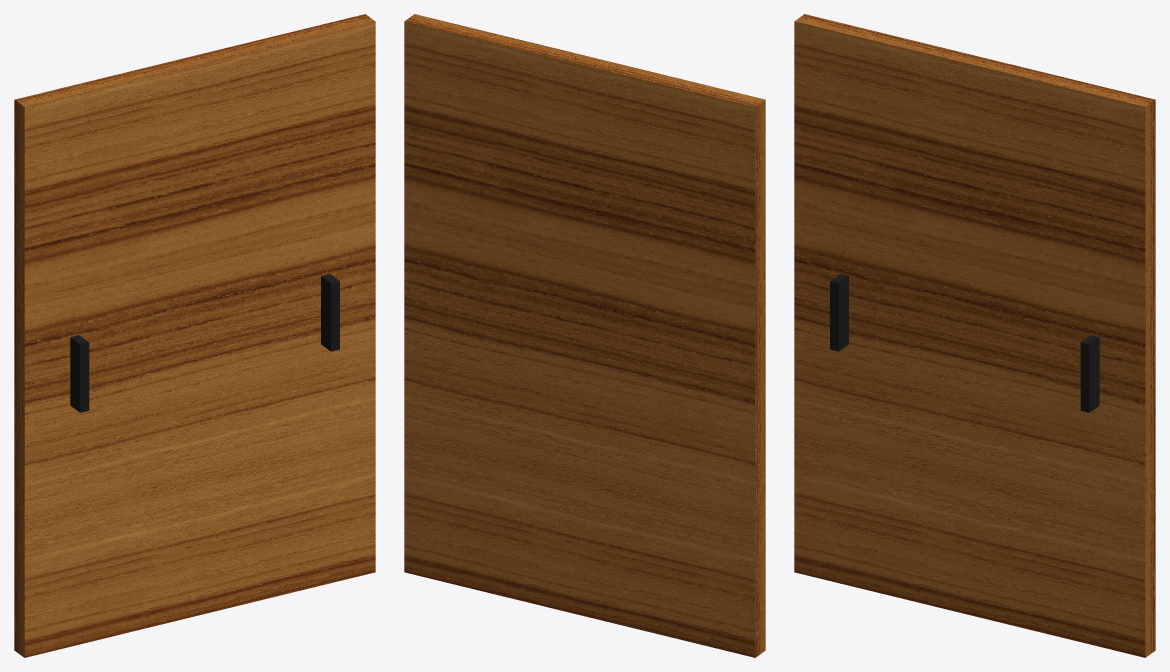
File: cupboard.obj
3 views of the same model, side by side, from view 1: azimuth 30°, elevation 25°; view 2: azimuth 150°, elevation 25°; view 3: azimuth 330°, elevation 25° (orthographic).
Visible parts, largest first — view 1: |cupboard_VISUALIZE|Root|polished_teak_2d, |cupboard_VISUALIZE|Root|black; view 2: |cupboard_VISUALIZE|Root|polished_teak_2d; view 3: |cupboard_VISUALIZE|Root|polished_teak_2d, |cupboard_VISUALIZE|Root|black.
Boxes of the visible parts, x1=… form: |cupboard_VISUALIZE|Root|polished_teak_2d: x1=14, y1=14, x2=375, y2=657; |cupboard_VISUALIZE|Root|black: x1=70, y1=274, x2=339, y2=412; |cupboard_VISUALIZE|Root|polished_teak_2d: x1=404, y1=14, x2=765, y2=657; |cupboard_VISUALIZE|Root|polished_teak_2d: x1=794, y1=14, x2=1155, y2=657; |cupboard_VISUALIZE|Root|black: x1=830, y1=274, x2=1099, y2=412.
Bounding box in the file's own units: 0.1 × 0.15 × 0.01.
Materials: 2 (1 with a texture image).
